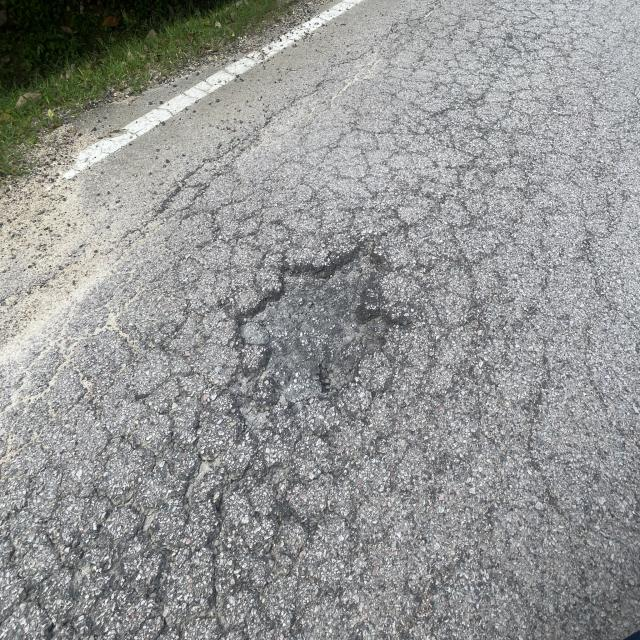Pothole: (196, 220, 400, 435)
